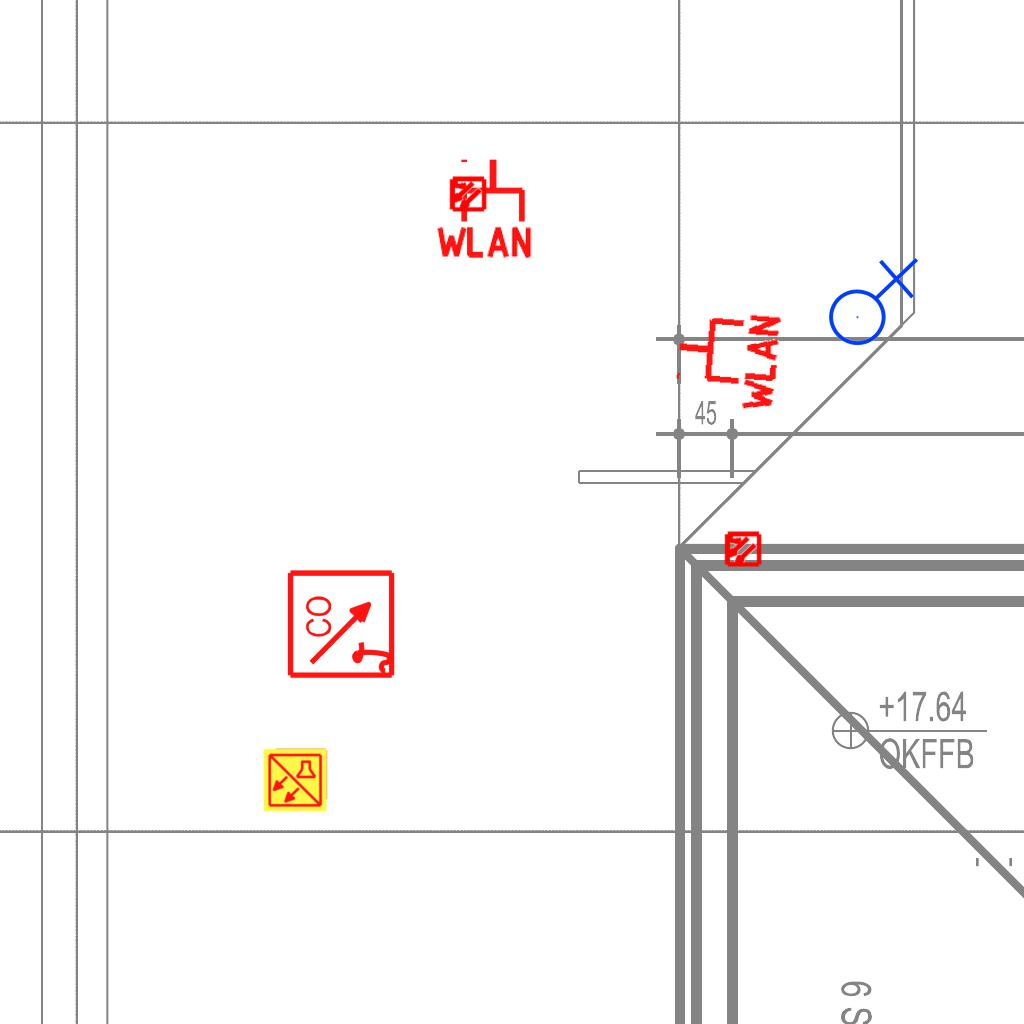Elektroanschluss_allgemein_230V_Geraeteanschlussdose_230V: (820, 253, 919, 347)
OKW_Multisensormelder_(Kombination_optischer_Rauch-Kahlenmonoxid_Waerme-Melder): (262, 747, 328, 813)
OT_Multisensormelder_(Kombination_RMO_WMD): (714, 521, 770, 577), (439, 166, 495, 222)
ROA_Rauchmelder_optisch_mit_Signalgeber_(Sockelsirene): (286, 567, 399, 680)
WLAN: (669, 303, 784, 417), (432, 155, 536, 260)
